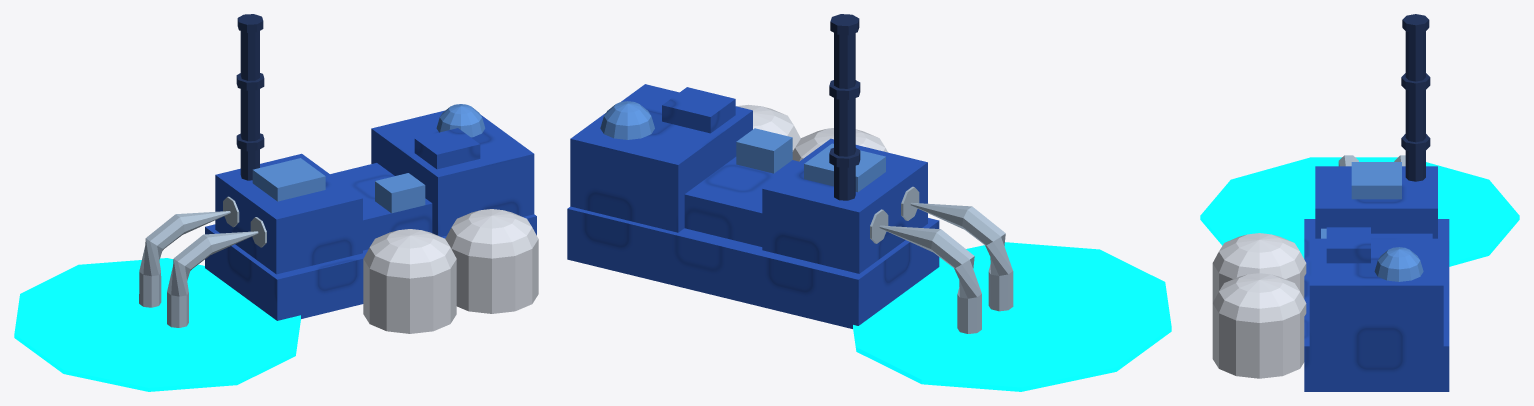
File: Station_Pompage.glb
3 views of the same model, side by side, from view 1: azimuth 30°, elevation 25°; view 2: azimuth 150°, elevation 25°; view 3: azimuth 270°, elevation 25° (orthographic). The views are drawn at different scales.
Parts seen in each view (by area): view 1: Station_Pompage; view 2: Station_Pompage; view 3: Station_Pompage.
Boxes of the visible parts, x1,y1,x2,y2 form: Station_Pompage: (14,14,538,391); Station_Pompage: (567,14,1171,391); Station_Pompage: (1200,14,1519,391).
Bounding box in the file's own units: 4.89 × 2.56 × 2.86.
6 materials, 2 textured.
